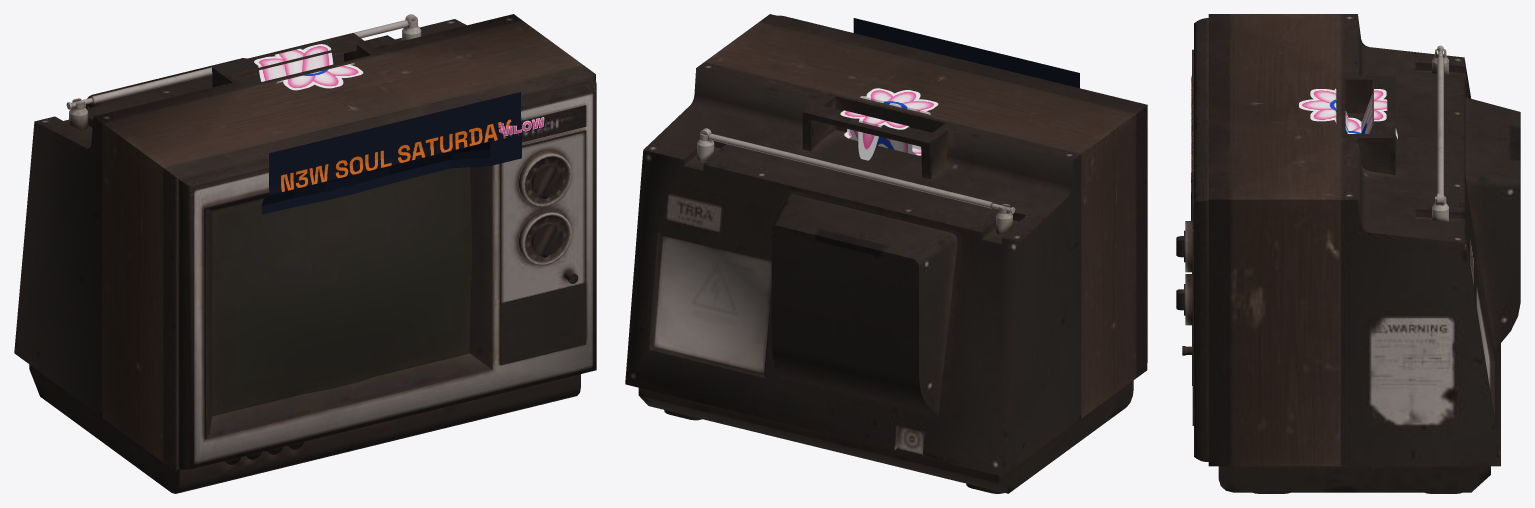
Rendered from nyb_crooklyn_tv.glb.
The picture shows the model from 3 angles, left to right: view 1: azimuth 30°, elevation 25°; view 2: azimuth 150°, elevation 25°; view 3: azimuth 270°, elevation 25°; orthographic projection. The views are drawn at different scales.
Visible parts, largest first — view 1: Television_01, stk_lbl_5dd5161ea6.png, stk_eyeflower_die.png; view 2: Television_01, stk_lbl_5dd5161ea6.png, stk_eyeflower_die.png; view 3: Television_01, stk_eyeflower_die.png.
Part boxes in pixels (x1=…): Television_01: x1=14, y1=14, x2=596, y2=493; stk_lbl_5dd5161ea6.png: x1=261, y1=92, x2=521, y2=214; stk_eyeflower_die.png: x1=254, y1=44, x2=363, y2=90; Television_01: x1=625, y1=14, x2=1147, y2=493; stk_lbl_5dd5161ea6.png: x1=853, y1=18, x2=1079, y2=88; stk_eyeflower_die.png: x1=840, y1=88, x2=938, y2=160; Television_01: x1=1176, y1=14, x2=1520, y2=493; stk_eyeflower_die.png: x1=1299, y1=88, x2=1397, y2=139.
Bounding box in the file's own units: 0.6 × 0.4699 × 0.4708.
4 materials, 4 textured.
